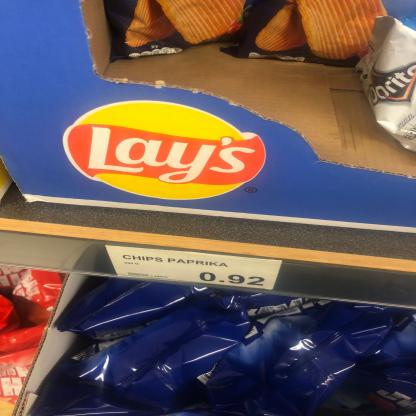prtg: (105, 246, 284, 291)
